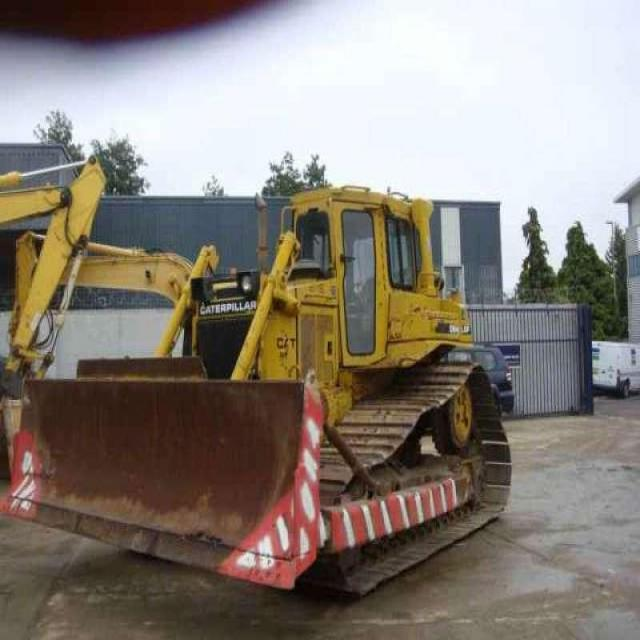Bulldozer: (18, 134, 526, 612)
